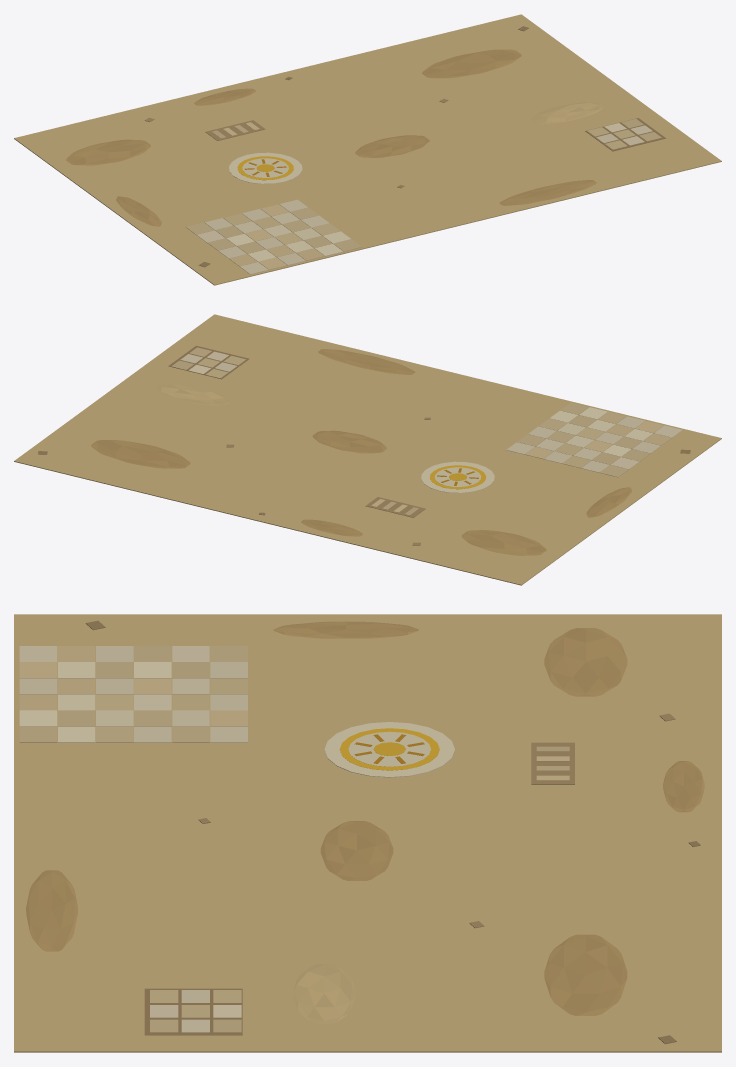
File: Decor_PharaohPyramid_Ground.fbx
3 views of the same model, one above another, from view 1: azimuth 30°, elevation 25°; view 2: azimuth 150°, elevation 25°; view 3: azimuth 270°, elevation 25° (orthographic). The views are drawn at different scales.
Parts seen in each view (by area): view 1: Ground_Body; view 2: Ground_Body; view 3: Ground_Body.
Part boxes in pixels (bbox=[...]): Ground_Body: bbox=[14, 14, 721, 285]; Ground_Body: bbox=[14, 314, 721, 585]; Ground_Body: bbox=[14, 614, 721, 1052].
Size of the model in its own units: 190 by 0.44 by 130.
